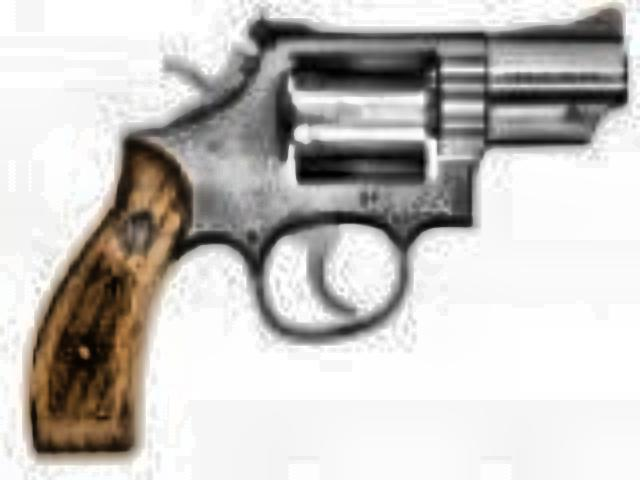pistol: (24, 0, 624, 448)
